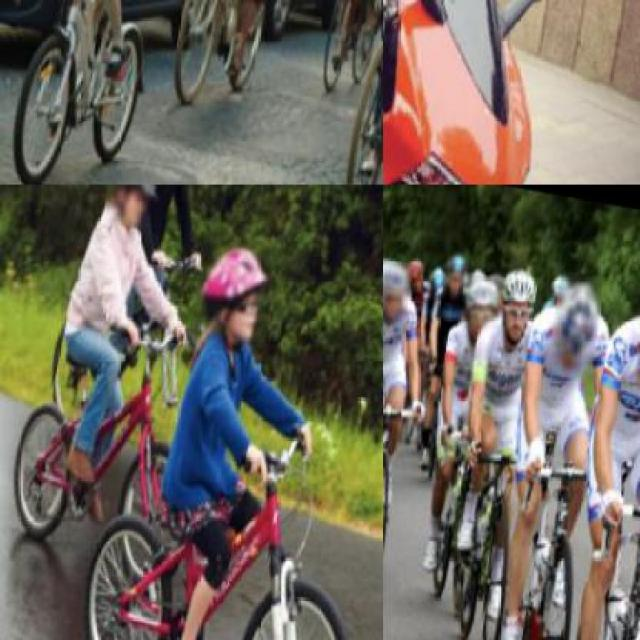With Helmet: (190, 229, 276, 356), (546, 268, 608, 382), (486, 259, 542, 347), (456, 270, 506, 336), (102, 185, 163, 232), (383, 256, 415, 330), (441, 248, 472, 302)
